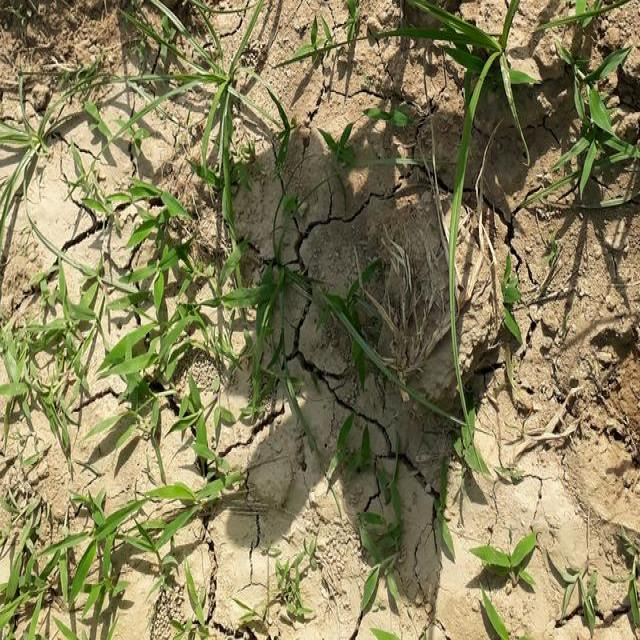weed: (90, 178, 268, 448), (403, 0, 626, 180), (0, 466, 229, 640)
